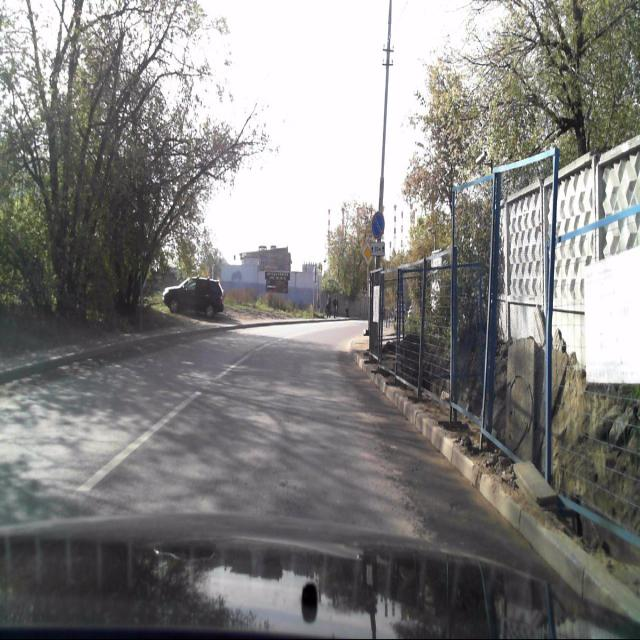road sign: (368, 239, 386, 256), (362, 241, 372, 266)
